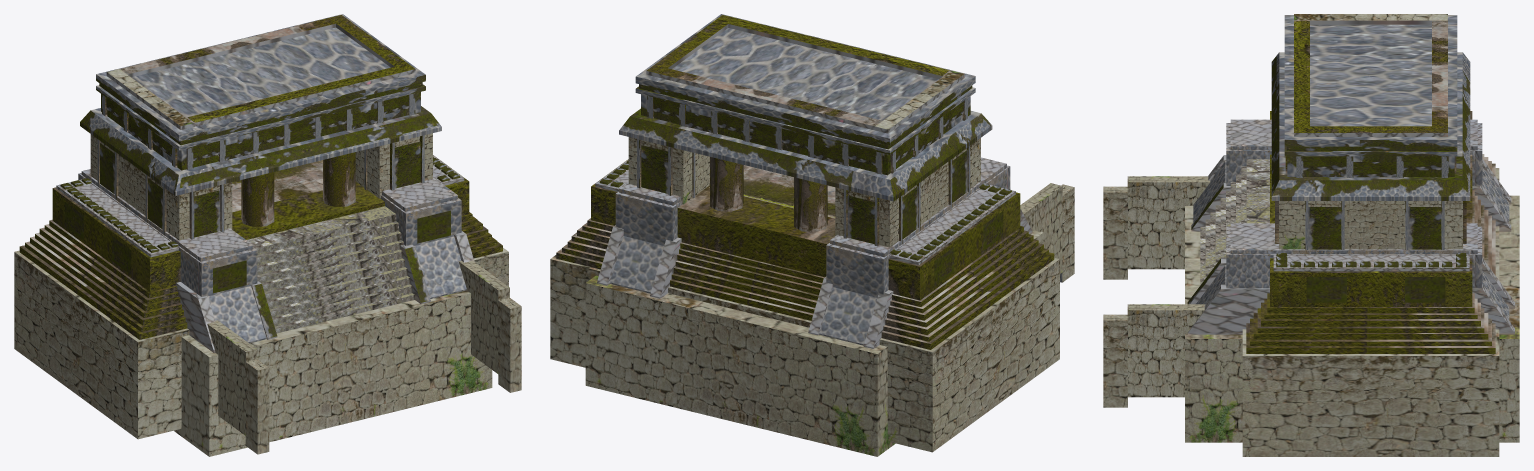
File: abandoned_civic_centre.dae
The picture shows the model from 3 angles, left to right: view 1: azimuth 30°, elevation 25°; view 2: azimuth 150°, elevation 25°; view 3: azimuth 270°, elevation 25°; orthographic projection. The views are drawn at different scales.
Parts seen in each view (by area): view 1: Civic_Center; view 2: Civic_Center; view 3: Civic_Center.
Boxes of the visible parts, <box> form: Civic_Center: <box>14,14,521,456</box>; Civic_Center: <box>550,14,1074,456</box>; Civic_Center: <box>1103,14,1519,456</box>.
Bounding box in the file's own units: 29.95 × 28.04 × 22.09.
